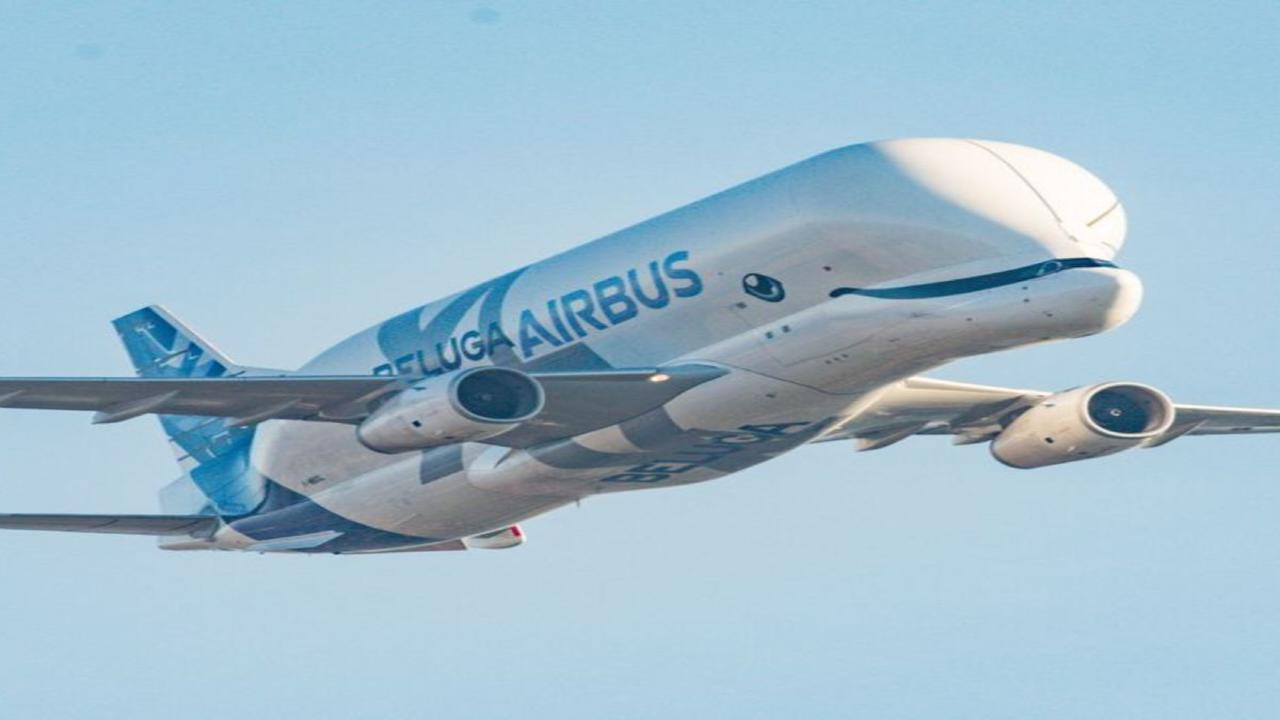Airplane: (0, 126, 1280, 578)
